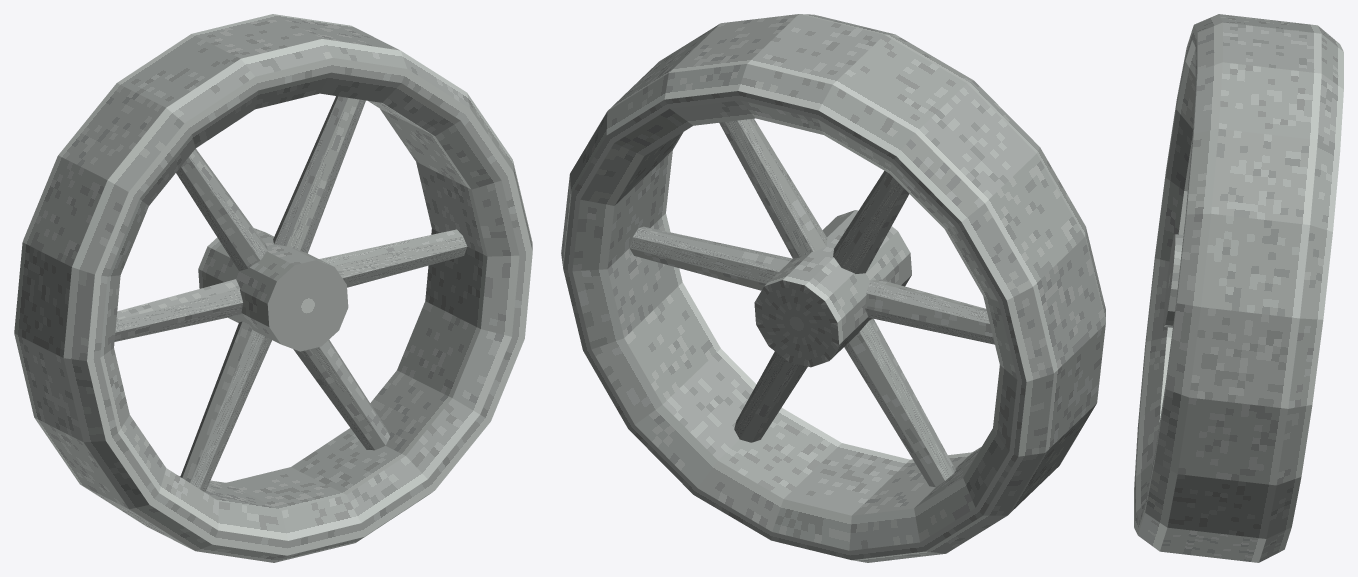
File: wheel_rim_motorbike.glb
3 renders of one model, left to right at view 1: azimuth 30°, elevation 25°; view 2: azimuth 150°, elevation 25°; view 3: azimuth 270°, elevation 25°, orthographic. The views are drawn at different scales.
Parts seen in each view (by area): view 1: block_wheel cross section, block_radial spoke (×6), block_wheel hub; view 2: block_wheel cross section, block_radial spoke (×6), block_wheel hub; view 3: block_wheel cross section, block_wheel hub.
Boxes of the visible parts, left/top/right/bottom form: block_wheel cross section: left=14, top=14, right=532, bottom=562; block_radial spoke (×6): left=114, top=96, right=467, bottom=491; block_wheel hub: left=198, top=228, right=348, bottom=351; block_wheel cross section: left=561, top=14, right=1105, bottom=562; block_radial spoke (×6): left=629, top=118, right=994, bottom=487; block_wheel hub: left=754, top=210, right=911, bottom=367; block_wheel cross section: left=1134, top=14, right=1343, bottom=562; block_wheel hub: left=1163, top=234, right=1183, bottom=327.
Size of the model in its own units: 0.5024 by 0.5024 by 0.1942.
1 material, 1 textured.
